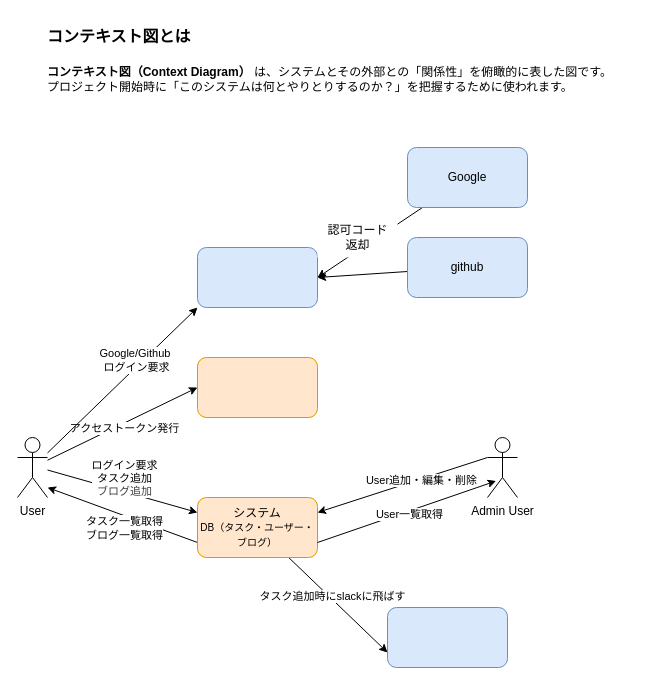
The diagram is 653 pixels wide and 685 high, and some of its shapes have lost their labels. The shapes that lost their labels are listed below. From the top down, each one's centre as x and y in pixels, then its label:
At [257,277]: "OAuth 認証サービス".
At [257,387]: "JWT認証".
At [447,637]: "slack".
